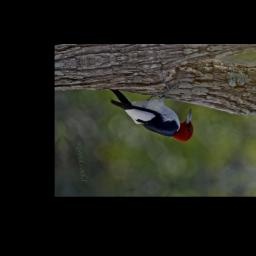Woodpecker: (107, 77, 198, 151)
